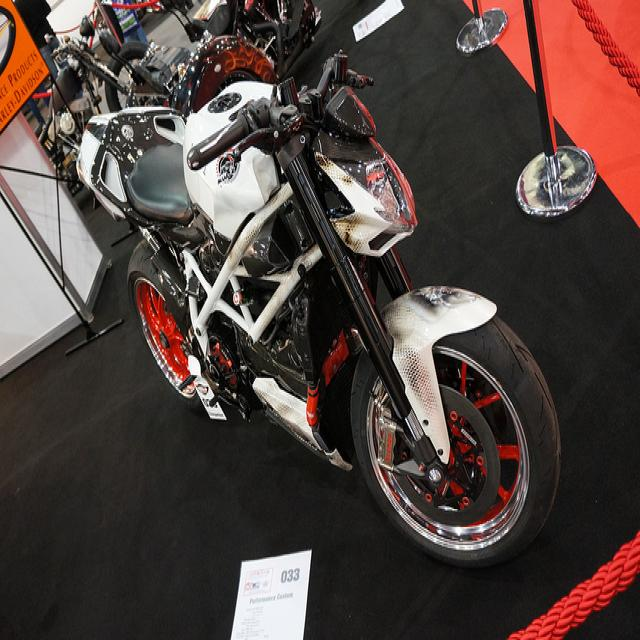motor: (72, 47, 564, 569), (46, 11, 146, 202), (172, 2, 318, 108)
